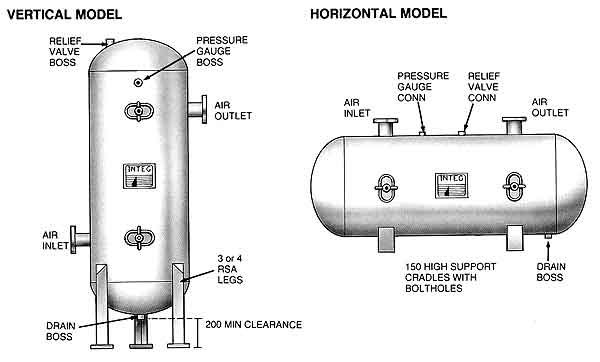nozzle: (182, 87, 224, 131), (58, 219, 101, 259), (493, 111, 541, 145), (367, 111, 407, 147)
